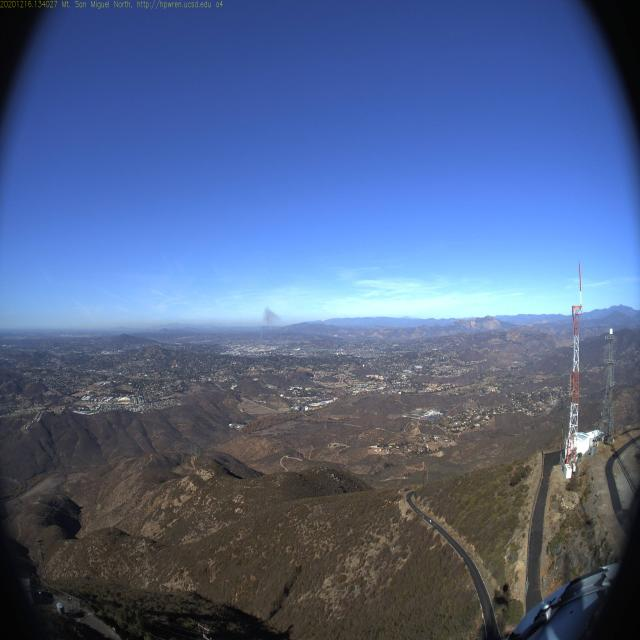smoke: (258, 305, 282, 330)
